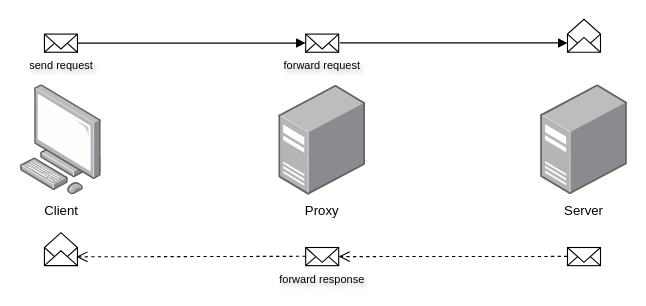
Image size: 646x306. Some labels were removed from this diagram. Each missing label, with the box of its shape:
process request: (566, 18, 600, 52)
receive response: (43, 232, 77, 266)
send response: (566, 246, 600, 266)
